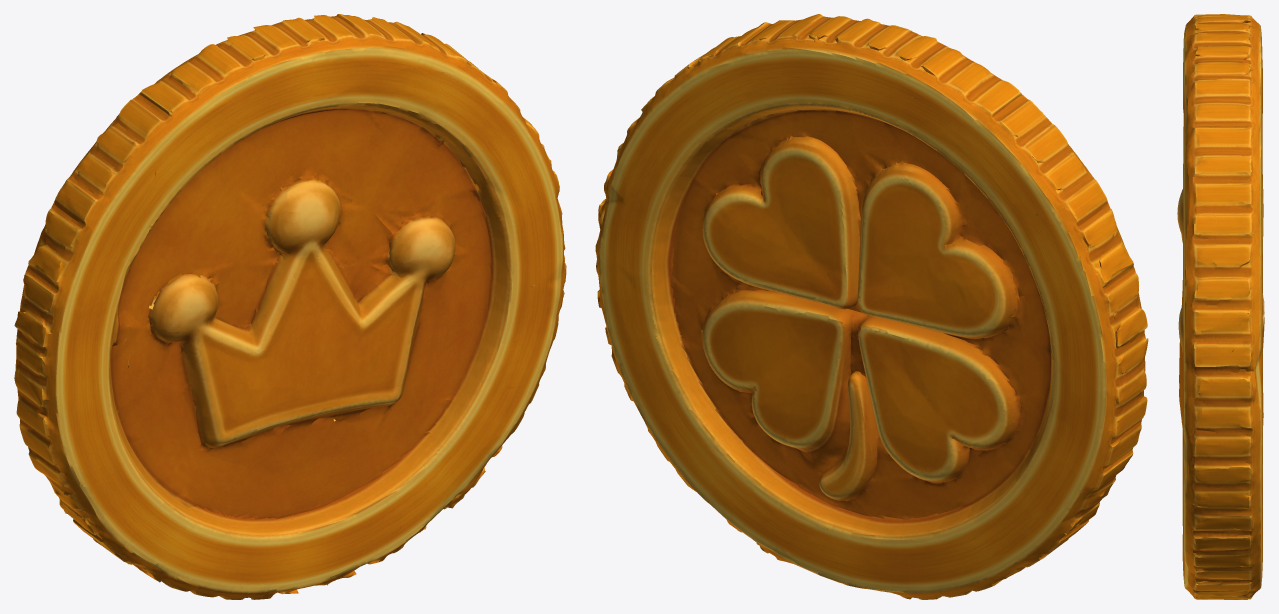
Rendered from sym-coin.glb.
The picture shows the model from 3 angles, left to right: view 1: azimuth 30°, elevation 25°; view 2: azimuth 150°, elevation 25°; view 3: azimuth 270°, elevation 25°; orthographic projection. The views are drawn at different scales.
Visible parts, largest first — view 1: output_unwrapped; view 2: output_unwrapped; view 3: output_unwrapped.
Boxes of the visible parts, left/top/right/bottom form: output_unwrapped: left=14, top=14, right=566, bottom=599; output_unwrapped: left=595, top=14, right=1148, bottom=599; output_unwrapped: left=1177, top=14, right=1264, bottom=599.
Size of the model in its own units: 1.9 by 1.9 by 0.2827.
1 material, 1 textured.
